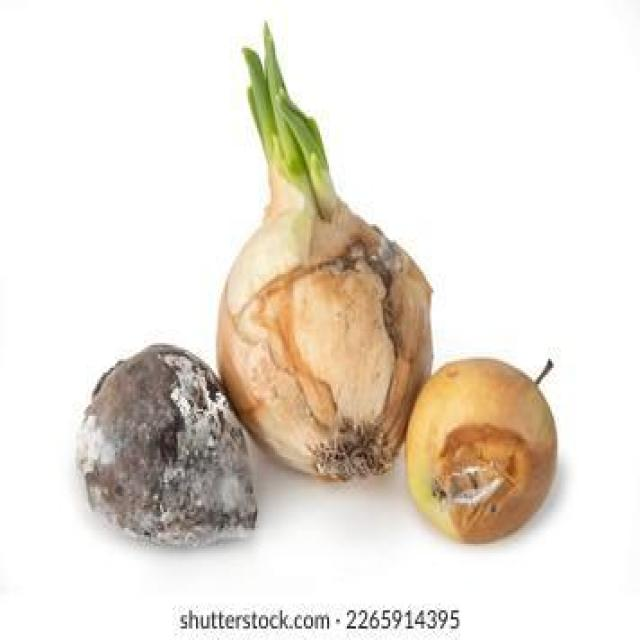Onion: (217, 192, 436, 482), (74, 341, 266, 548), (407, 356, 558, 542), (242, 18, 328, 192)
